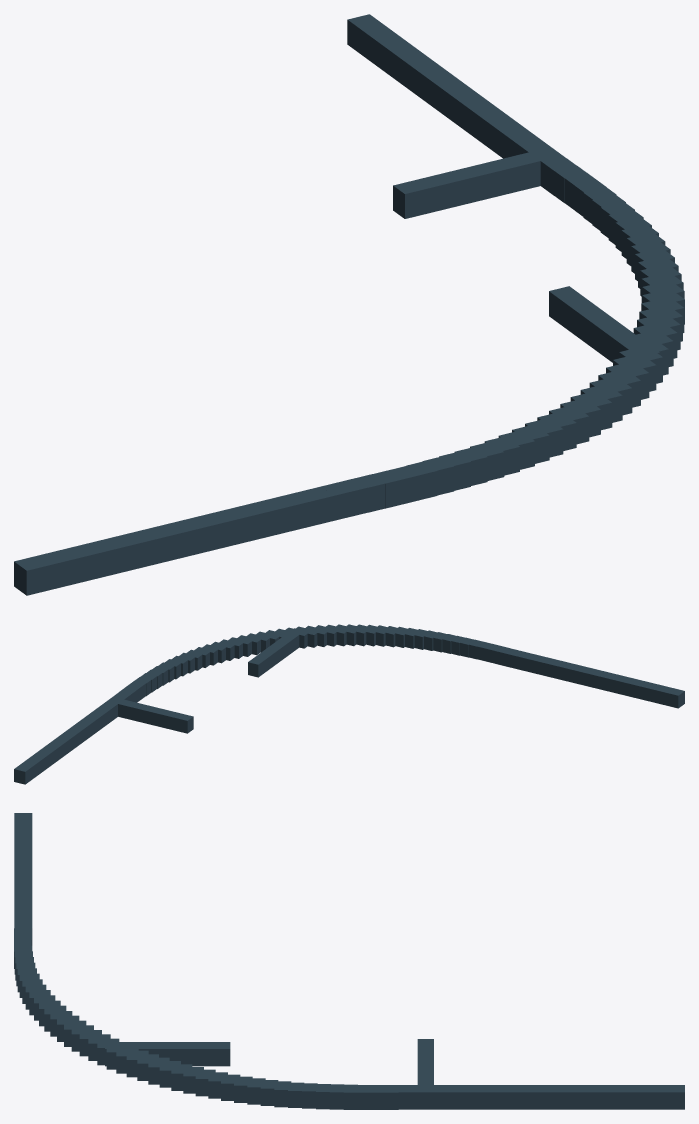
The model's file is v02-transit-world-03-03-08.glb.
The picture shows the model from 3 angles, top to bottom: view 1: azimuth 30°, elevation 25°; view 2: azimuth 150°, elevation 25°; view 3: azimuth 270°, elevation 25°; orthographic projection. The views are drawn at different scales.
Visible parts, largest first — view 1: v02-transit-world-03-03-08; view 2: v02-transit-world-03-03-08; view 3: v02-transit-world-03-03-08.
Boxes of the visible parts, left/top/right/bottom form: v02-transit-world-03-03-08: left=14, top=14, right=684, bottom=595; v02-transit-world-03-03-08: left=14, top=624, right=684, bottom=784; v02-transit-world-03-03-08: left=14, top=813, right=684, bottom=1109.
Bounding box in the file's own units: 48.48 × 1.4 × 49.18.
